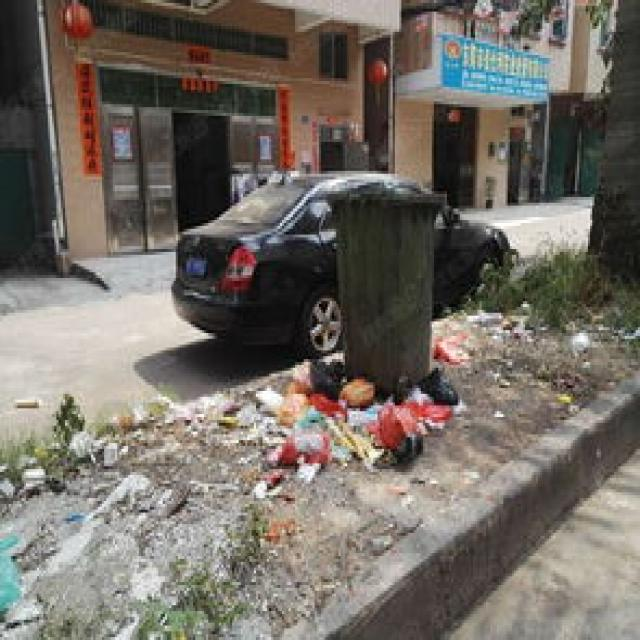garbage: (213, 330, 462, 484)
garbage_bin: (326, 176, 440, 396)
